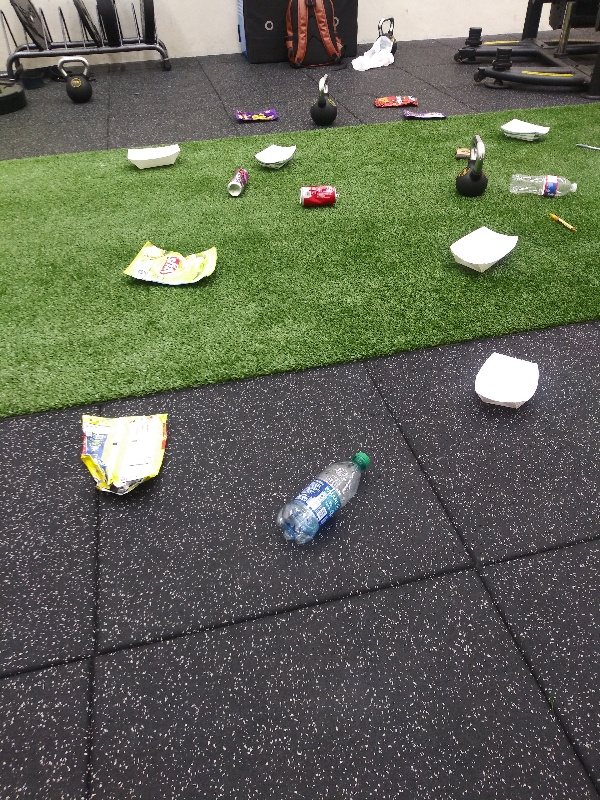bag: (77, 406, 177, 500), (115, 239, 223, 288), (229, 104, 279, 124), (368, 90, 419, 109), (396, 105, 451, 121)
bottle: (271, 445, 375, 550), (505, 171, 581, 204)
can: (293, 183, 343, 209), (223, 161, 252, 199)
plate: (471, 348, 543, 412), (445, 225, 519, 277), (124, 139, 184, 173), (248, 139, 299, 172), (496, 115, 554, 143)
